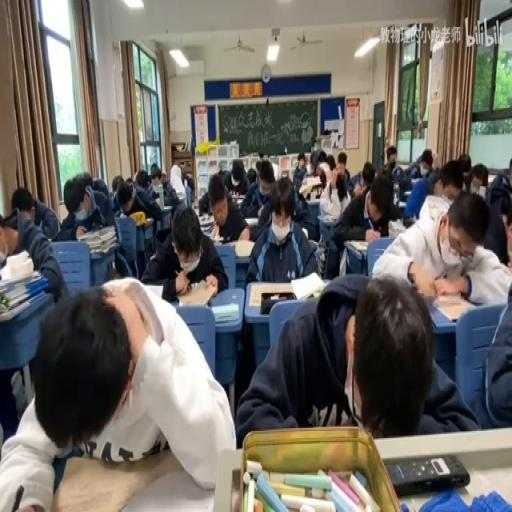calculator: (51, 444, 167, 509), (384, 452, 470, 494), (248, 282, 294, 308), (432, 294, 474, 322), (290, 268, 326, 298), (210, 300, 238, 322), (234, 238, 256, 256), (141, 283, 165, 299), (196, 212, 214, 230), (388, 218, 406, 236), (346, 239, 368, 252), (144, 180, 158, 198), (229, 194, 244, 208), (135, 215, 151, 226), (306, 238, 320, 250), (320, 213, 338, 222), (242, 214, 258, 224), (397, 199, 406, 215), (174, 188, 185, 200), (306, 196, 320, 205), (214, 235, 228, 243), (410, 176, 420, 186), (487, 174, 496, 184), (404, 189, 410, 198)
paper: (236, 267, 474, 441), (0, 186, 70, 423), (374, 185, 509, 306), (244, 174, 318, 283), (143, 203, 227, 299), (474, 273, 511, 427), (330, 170, 394, 258), (56, 172, 114, 242), (110, 178, 158, 236), (400, 146, 438, 192), (197, 164, 229, 218), (486, 156, 512, 208), (223, 158, 250, 196), (331, 151, 353, 193), (466, 161, 488, 196), (0, 219, 18, 259), (292, 150, 307, 188), (160, 180, 179, 208), (456, 152, 472, 185), (382, 145, 398, 178), (74, 170, 93, 194), (258, 164, 274, 189), (310, 149, 323, 175), (350, 170, 364, 194), (362, 162, 374, 188), (134, 168, 148, 189), (150, 163, 162, 185), (182, 172, 194, 192), (246, 166, 258, 184), (111, 174, 124, 190), (430, 150, 440, 170), (325, 154, 335, 170), (254, 158, 262, 175), (318, 175, 326, 189), (160, 170, 166, 184)
person: (402, 213, 415, 226)
